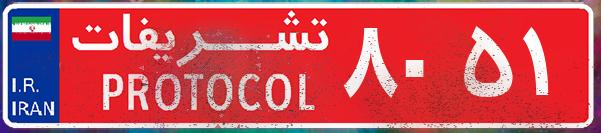0: (400, 20, 460, 115)
1: (520, 20, 580, 115)
5: (460, 20, 520, 115)
8: (340, 20, 400, 115)
تشریفات: (60, 8, 340, 125)
